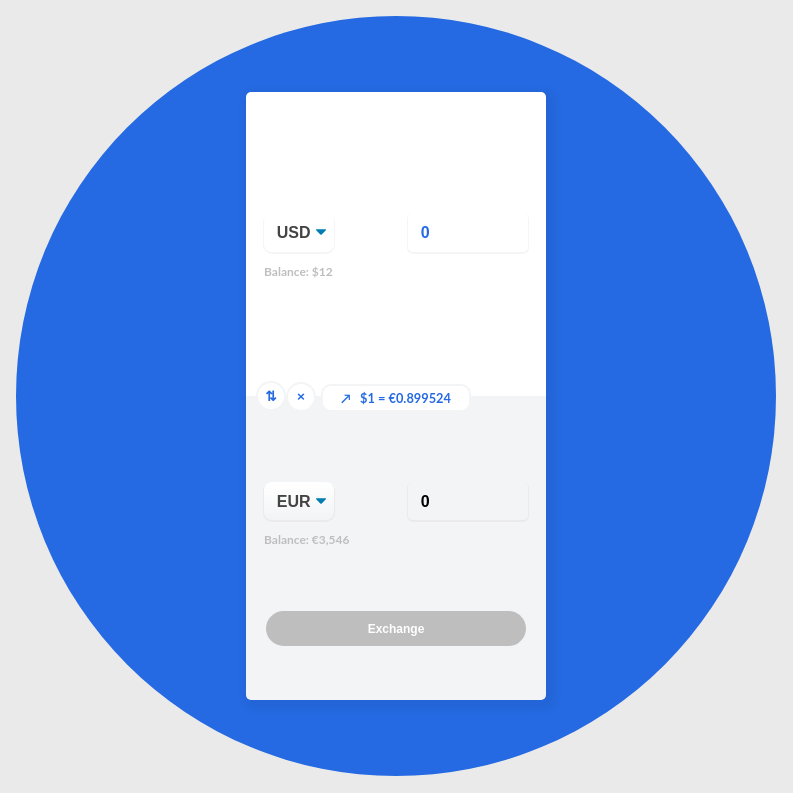
Test: CurrencyExchangePage › can exchange between pockets
In the field with test id "exchange-input-0": coordinates (468, 232) [408, 213, 528, 252], type "10"
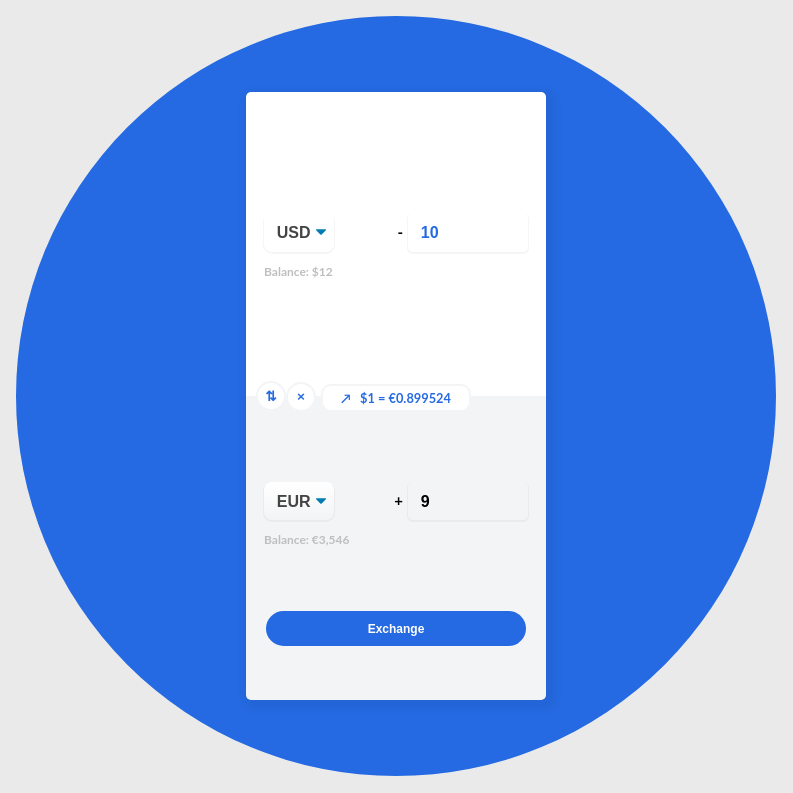
Expected: the field with test id "exchange-input-1" holds "9", [408, 482, 528, 520]
Note: click exchange
Click the button with test id "exchange-btn": coordinates (396, 629) [264, 609, 528, 648]
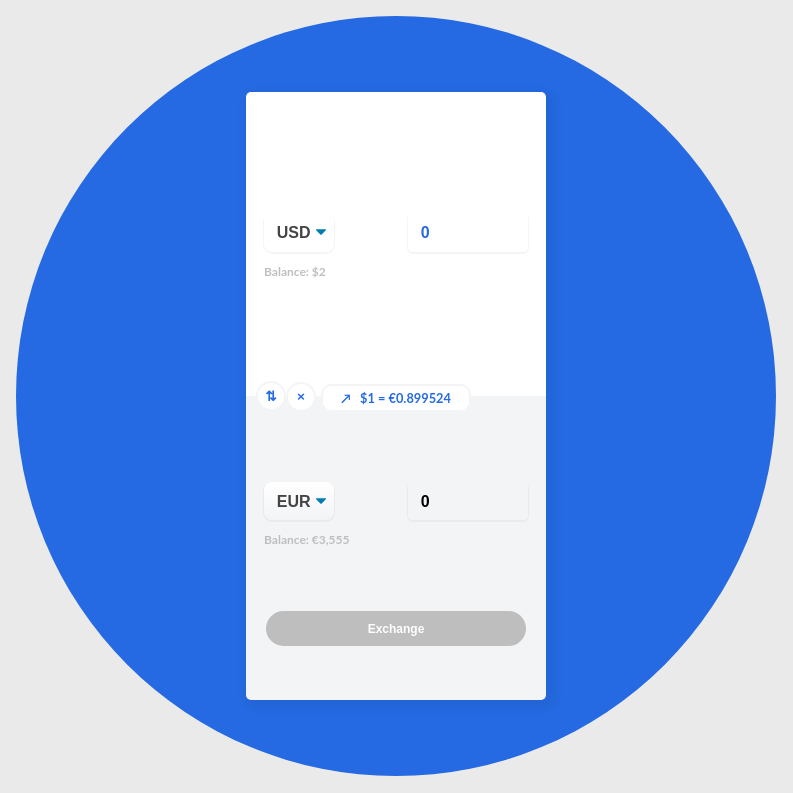
Expected: the text with test id "balance-statement-eur" reads "Balance: €3,555", [264, 532, 349, 547]
